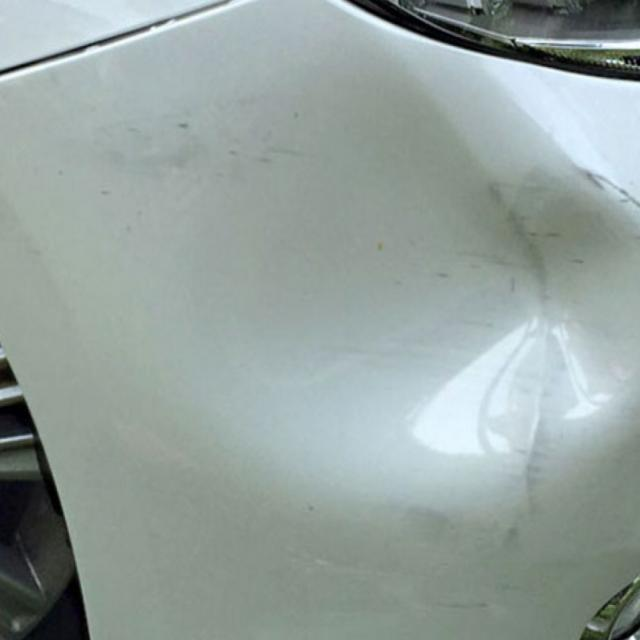dents: (175, 66, 640, 512)
